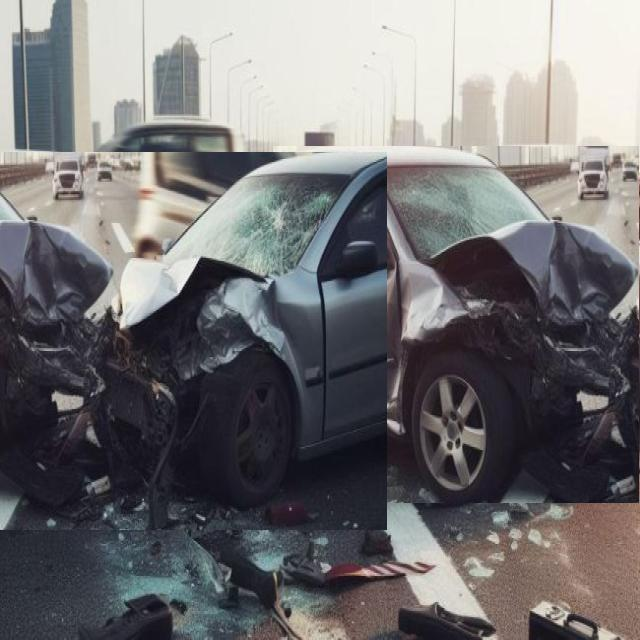accident: (0, 153, 387, 530), (274, 147, 639, 503)
